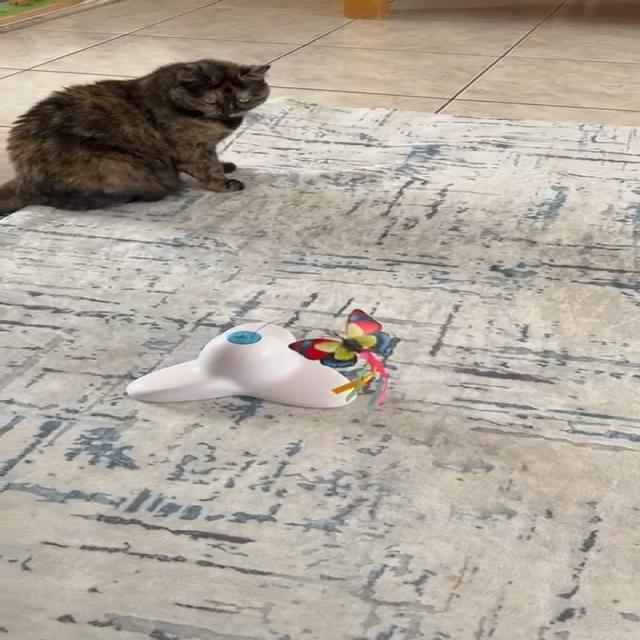authorized: (0, 58, 271, 214)
